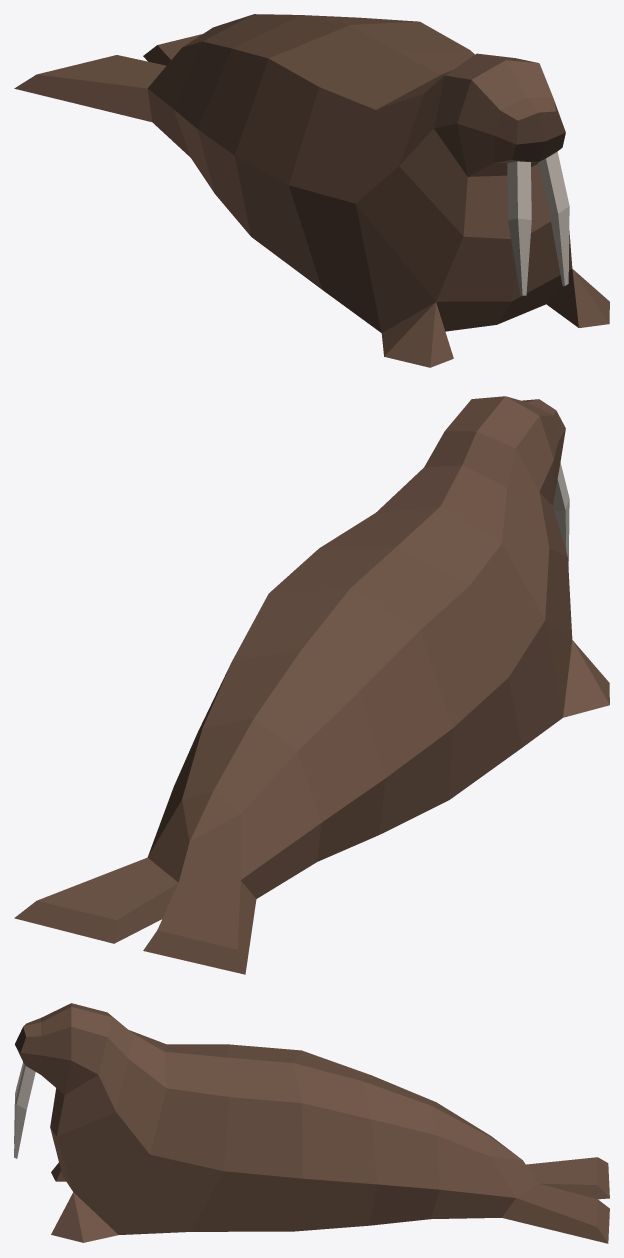
The model's file is Model_Seiuchi.fbx.
3 views of the same model, one above another, from view 1: azimuth 30°, elevation 25°; view 2: azimuth 150°, elevation 25°; view 3: azimuth 270°, elevation 25° (orthographic). The views are drawn at different scales.
Visible parts, largest first — view 1: Seiuchi; view 2: Seiuchi; view 3: Seiuchi.
Part boxes in pixels (<box>): Seiuchi: <box>14,14,609,367</box>; Seiuchi: <box>14,396,609,974</box>; Seiuchi: <box>14,1003,609,1243</box>.
Bounding box in the file's own units: 198 × 225 × 619.
